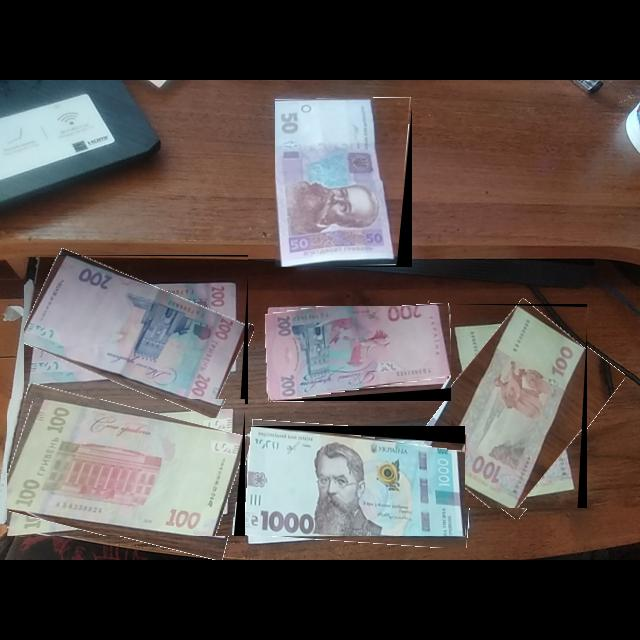1000uah: (246, 427, 466, 537)
100uah: (7, 399, 244, 537), (451, 306, 587, 509)
200uah: (24, 256, 246, 405), (265, 306, 453, 402)
50uah: (275, 98, 401, 268)
